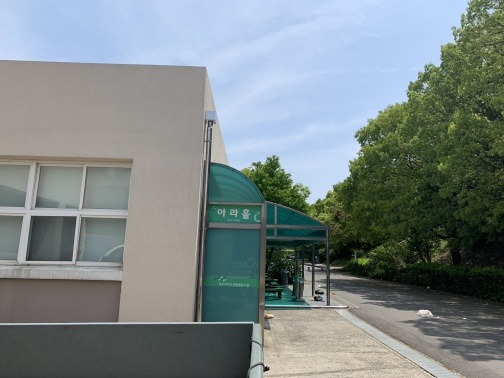Ara Hall: (55, 68, 331, 329)
